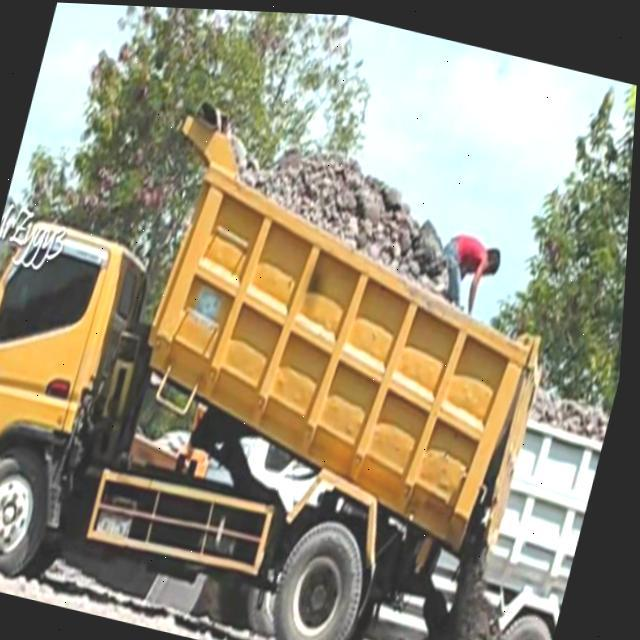truck: (0, 62, 594, 640)
